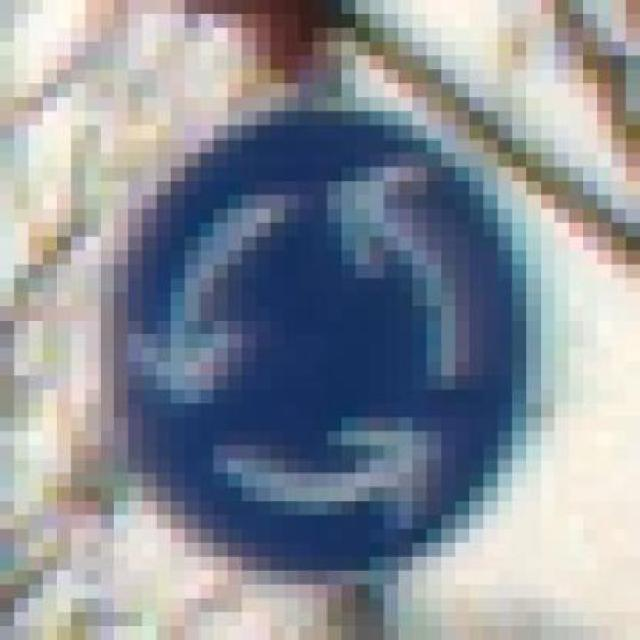Round-About: (71, 70, 597, 612)
